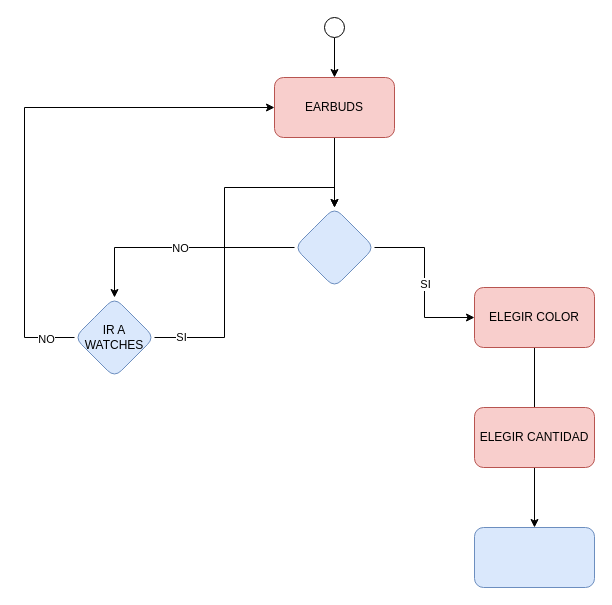
Image size: 612x605. Some labels were removed from this diagram. The centre of each missing label's shape, as x and y in pixels:
"COMPRAR" goes at point (334, 247).
"RESUMEN DE COMPRA" goes at point (534, 557).
